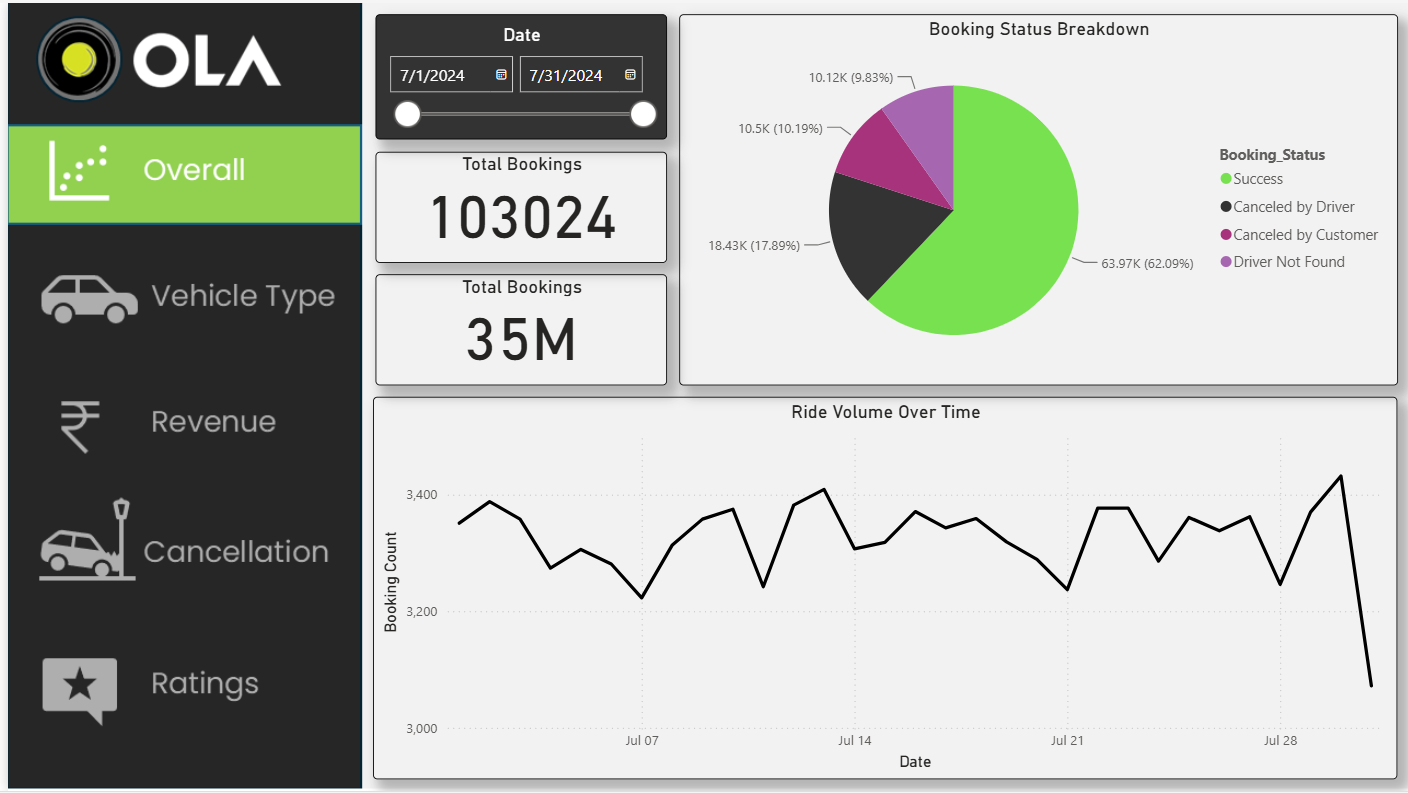

Layout of this report page (visuals, bound fields, positions):
{"tool":"powerbi","page":{"name":"Overall","canvas":[1280,720],"ordinal":0},"visuals":[{"type":"actionButton","box":[0,224.4,323.8,87.1],"z":0},{"type":"actionButton","box":[0,232.3,323.8,87.1],"z":1000},{"type":"actionButton","box":[0,224.4,323.8,87.1],"z":2000},{"type":"actionButton","box":[0,224.4,323.8,87.1],"z":3000},{"type":"actionButton","box":[0,224.4,323.8,87.1],"z":4000},{"type":"actionButton","box":[0,113.1,323.8,86.9],"z":5000},{"type":"actionButton","box":[0,446.4,323.8,96.4],"z":6000},{"type":"actionButton","box":[0,582.9,323.8,87.1],"z":7000},{"type":"actionButton","box":[10,592.9,323.8,87.1],"z":8000},{"type":"actionButton","box":[0,582.9,323.8,87.1],"z":9000},{"type":"actionButton","box":[0,582.9,323.8,87.1],"z":10000},{"type":"actionButton","box":[0,582.9,323.8,87.1],"z":11000},{"type":"actionButton","box":[0,582.9,323.8,87.1],"z":12000},{"type":"actionButton","box":[0,582.9,323.8,87.1],"z":13000},{"type":"actionButton","box":[0,582.9,323.8,87.1],"z":14000},{"type":"actionButton","box":[0,582.9,323.8,87.1],"z":15000},{"type":"actionButton","box":[0,336.1,323.8,87.1],"z":16000},{"type":"actionButton","box":[0,582.1,323.8,88.1],"z":17000},{"type":"lineChart","title":"Ride Volume Over Time","fields":{"Y":["CountNonNull(July.Booking_ID)"],"Category":["July.Date"]},"box":[333.3,359.4,936.2,349.3],"z":18000},{"type":"pieChart","title":"Booking Status Breakdown","fields":{"Category":["July.Booking_Status"],"Y":["CountNonNull(July.Booking_Status)"]},"box":[613,10.1,656.5,339.1],"z":19000},{"type":"slicer","title":"Date","fields":{"Values":["July.Date"]},"box":[336.2,10.1,266.7,114.5],"z":20000},{"type":"card","title":"Total Bookings","fields":{"Values":["Sum(July.Booking_Value)"]},"box":[336.2,247.8,266.7,101.4],"z":21000},{"type":"card","title":"Total Bookings","fields":{"Values":["CountNonNull(July.Booking_ID)"]},"box":[336.2,136.2,266.7,101.4],"z":22000}]}

Visuals, with their boxes in screenshot pixels (x1, y1, x2, y2), scaled from the page's 1280x720 canvas onto the 1408x793 screenshot:
actionButton: Rect(0, 247, 356, 343)
actionButton: Rect(0, 256, 356, 352)
actionButton: Rect(0, 247, 356, 343)
actionButton: Rect(0, 247, 356, 343)
actionButton: Rect(0, 247, 356, 343)
actionButton: Rect(0, 125, 356, 220)
actionButton: Rect(0, 492, 356, 598)
actionButton: Rect(0, 642, 356, 738)
actionButton: Rect(11, 653, 367, 749)
actionButton: Rect(0, 642, 356, 738)
actionButton: Rect(0, 642, 356, 738)
actionButton: Rect(0, 642, 356, 738)
actionButton: Rect(0, 642, 356, 738)
actionButton: Rect(0, 642, 356, 738)
actionButton: Rect(0, 642, 356, 738)
actionButton: Rect(0, 642, 356, 738)
actionButton: Rect(0, 370, 356, 466)
actionButton: Rect(0, 641, 356, 738)
"Ride Volume Over Time" lineChart: Rect(367, 396, 1396, 781)
"Booking Status Breakdown" pieChart: Rect(674, 11, 1396, 385)
"Date" slicer: Rect(370, 11, 663, 137)
"Total Bookings" card: Rect(370, 273, 663, 385)
"Total Bookings" card: Rect(370, 150, 663, 262)
